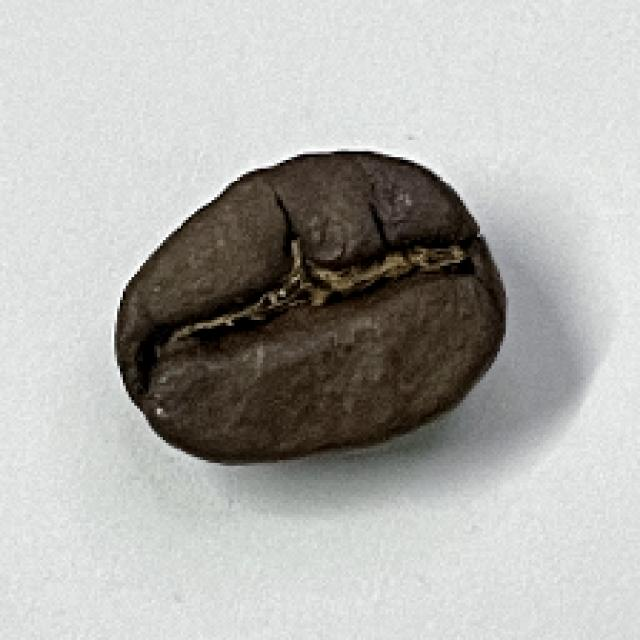bean: (104, 145, 510, 465)
